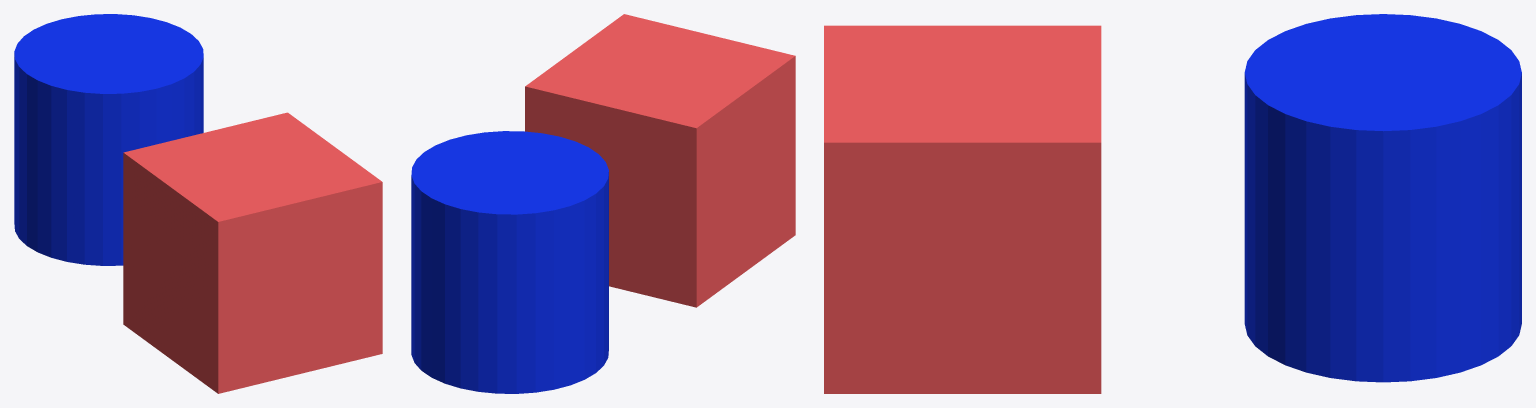
File: ExampleModel02.gltf
The picture shows the model from 3 angles, left to right: view 1: azimuth 30°, elevation 25°; view 2: azimuth 150°, elevation 25°; view 3: azimuth 270°, elevation 25°; orthographic projection. The views are drawn at different scales.
Visible parts, largest first — view 1: Cube, 柱体; view 2: Cube, 柱体; view 3: Cube, 柱体.
Boxes of the visible parts, x1,y1,x2,y2 form: Cube: (123, 112, 382, 393); 柱体: (14, 14, 203, 265); Cube: (525, 14, 795, 307); 柱体: (411, 131, 608, 393); Cube: (824, 25, 1101, 393); 柱体: (1244, 14, 1521, 382).
Size of the model in its own units: 2 by 2.09 by 5.03.
